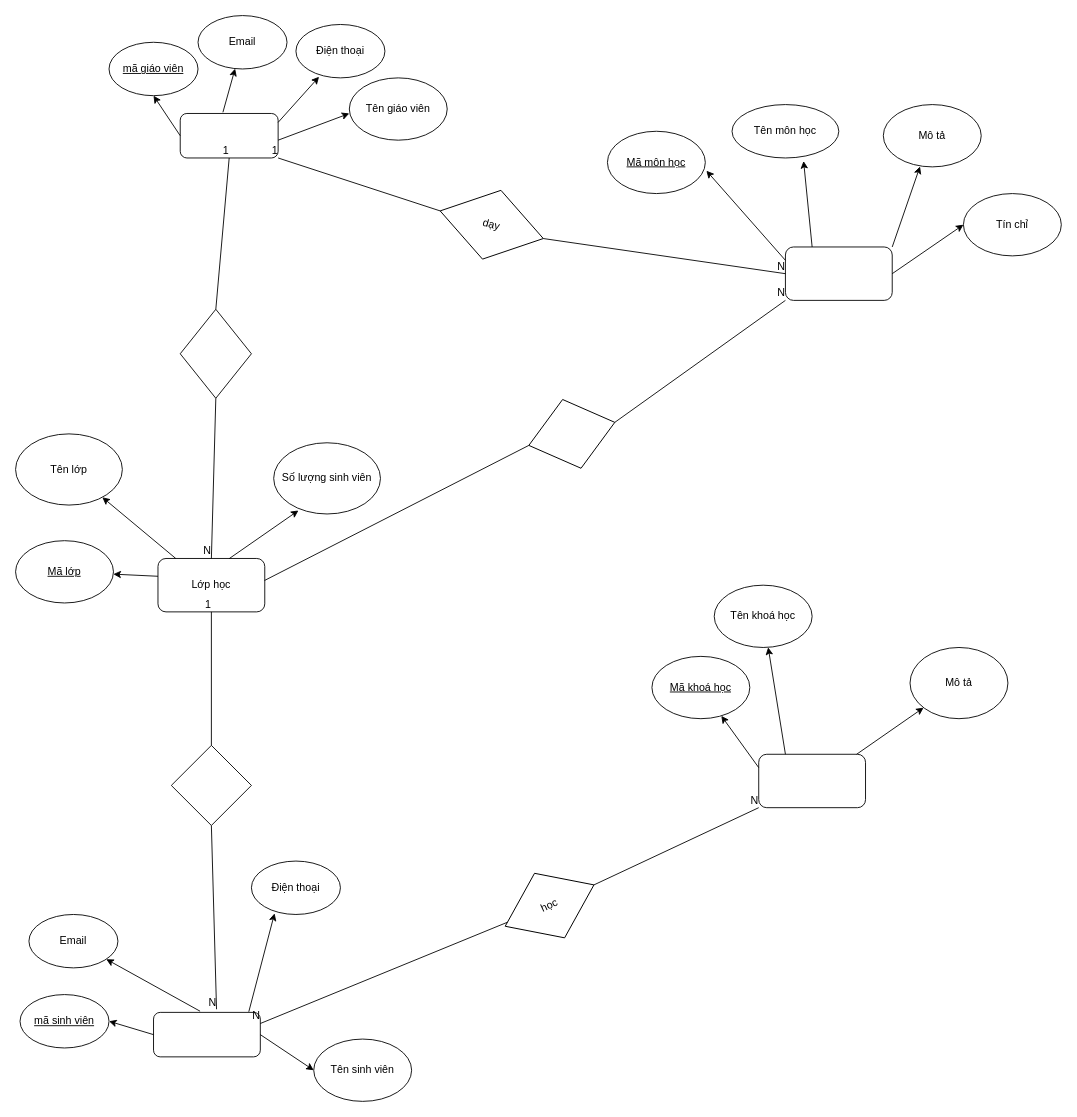
Image size: 1077x1117. Some labels were removed from this diagram. The shapes that lost their labels are listed below. From the top down, each one's box as (x1, y1, x2, y2) in pixels, then its label:
(179, 113, 278, 158): giáo viên
(785, 246, 892, 300): Môn học
(179, 308, 251, 398): đảm nhiệm
(519, 387, 624, 480): có
(170, 744, 251, 825): thuộc
(758, 753, 866, 808): Khoá học
(153, 1011, 260, 1057): Sinh viên
